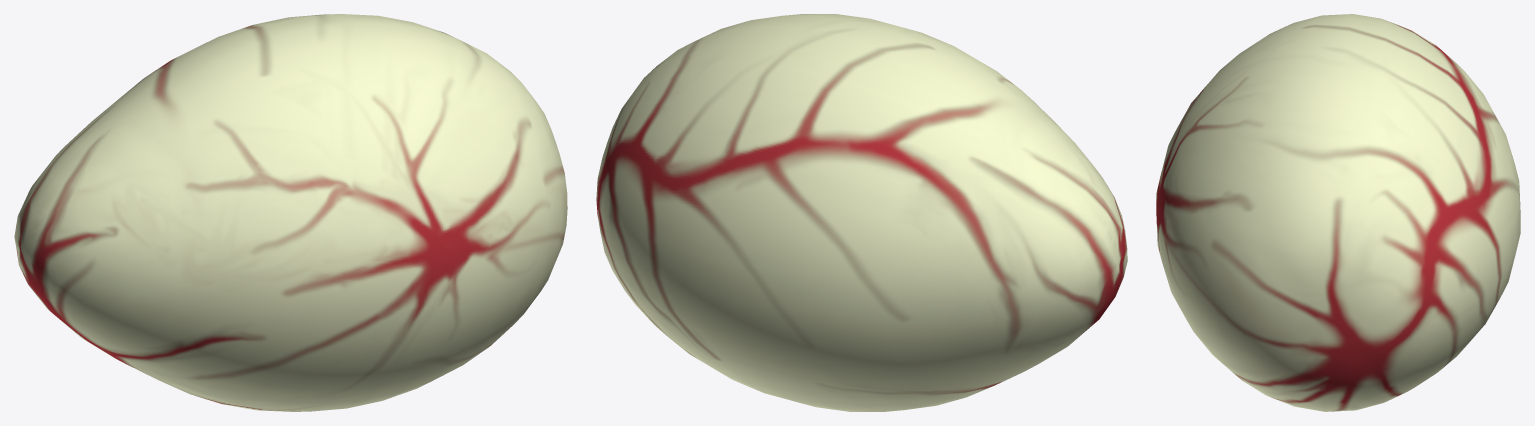
The model's file is OvoDeDragao.fbx.
The picture shows the model from 3 angles, left to right: view 1: azimuth 30°, elevation 25°; view 2: azimuth 150°, elevation 25°; view 3: azimuth 270°, elevation 25°; orthographic projection. The views are drawn at different scales.
Parts seen in each view (by area): view 1: Ovo de Dragao; view 2: Ovo de Dragao; view 3: Ovo de Dragao.
Boxes of the visible parts, x1,y1,x2,y2 form: Ovo de Dragao: (14,14,567,411); Ovo de Dragao: (596,14,1127,411); Ovo de Dragao: (1156,14,1520,411).
Bounding box in the file's own units: 202 × 139 × 139.
